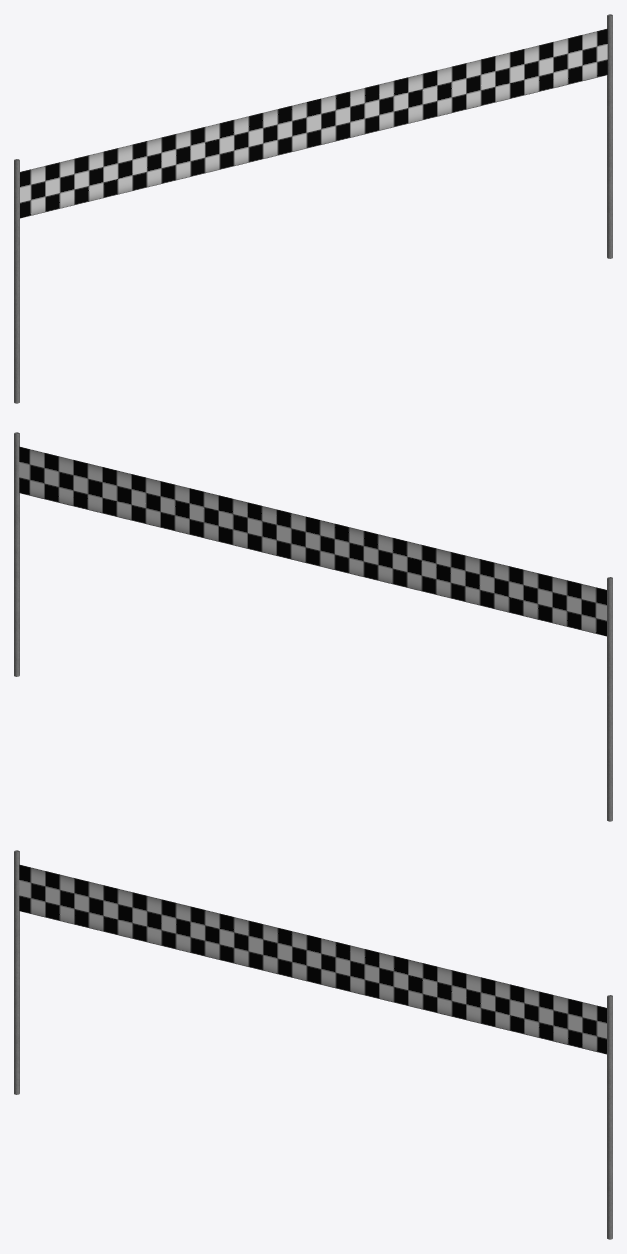
The model's file is SM_finishline_02.fbx.
3 renders of one model, top to bottom at view 1: azimuth 30°, elevation 25°; view 2: azimuth 150°, elevation 25°; view 3: azimuth 330°, elevation 25°, orthographic.
Visible parts, largest first — view 1: WideFinishline; view 2: WideFinishline; view 3: WideFinishline.
Part boxes in pixels (bbox=[...]): WideFinishline: bbox=[14, 14, 612, 403]; WideFinishline: bbox=[14, 432, 612, 821]; WideFinishline: bbox=[14, 850, 612, 1239].
Bounding box in the file's own units: 40.01 × 15.47 × 0.3233.
1 material, 1 textured.
